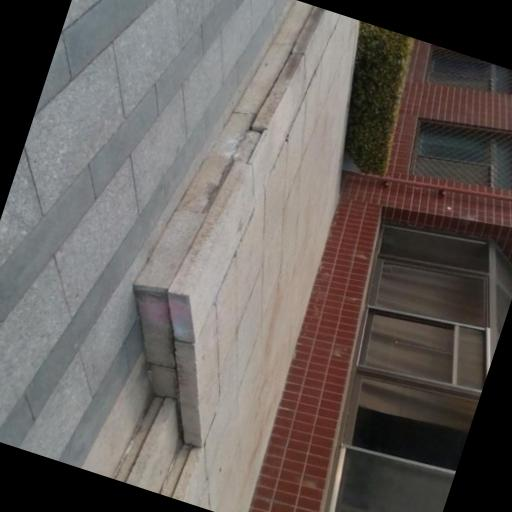stairs: (113, 396, 202, 501)
